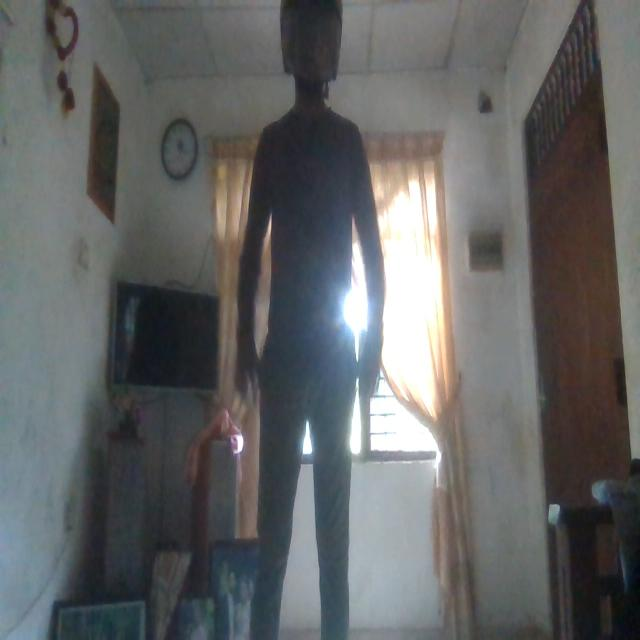Helmet_Wearer: (274, 0, 352, 107)
Person: (244, 0, 374, 633)
